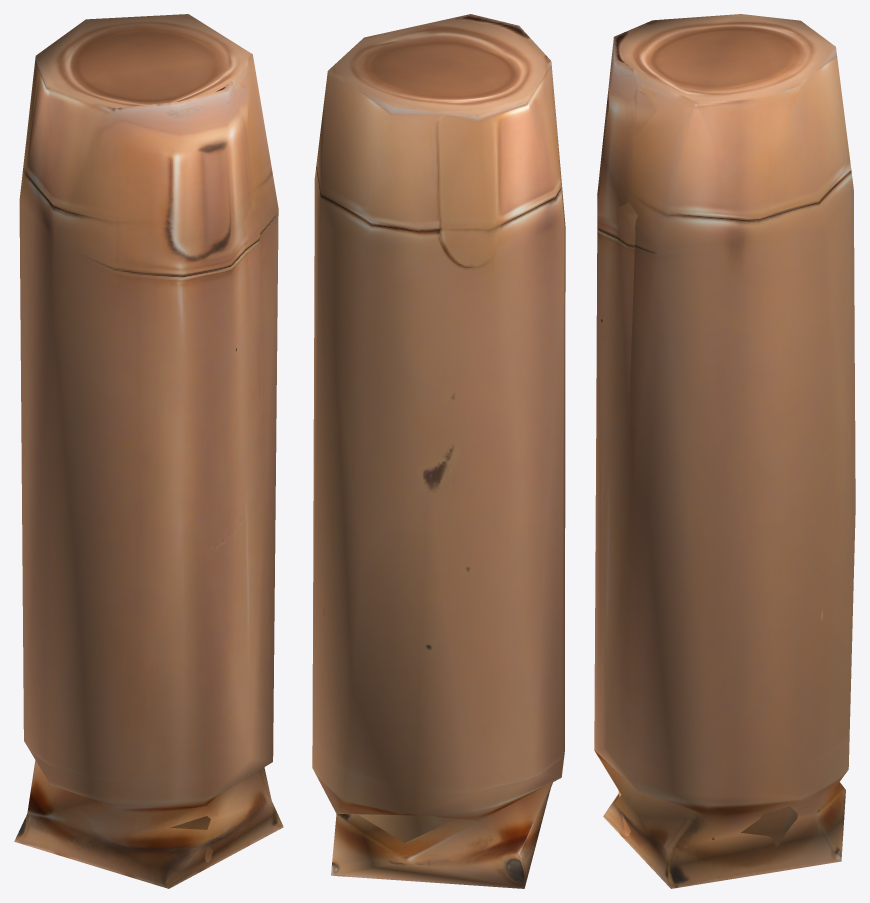
Rendered from shotgun_bullet_1121004941_texture.fbx.
3 views of the same model, side by side, from view 1: azimuth 30°, elevation 25°; view 2: azimuth 150°, elevation 25°; view 3: azimuth 270°, elevation 25° (orthographic).
Visible parts, largest first — view 1: Mesh1.0; view 2: Mesh1.0; view 3: Mesh1.0.
Part boxes in pixels (<box>): Mesh1.0: <box>14,14,283,888</box>; Mesh1.0: <box>312,14,565,888</box>; Mesh1.0: <box>594,14,855,888</box>.
Size of the model in its own units: 59.46 by 201 by 60.29.
Materials: 1 (1 with a texture image).
